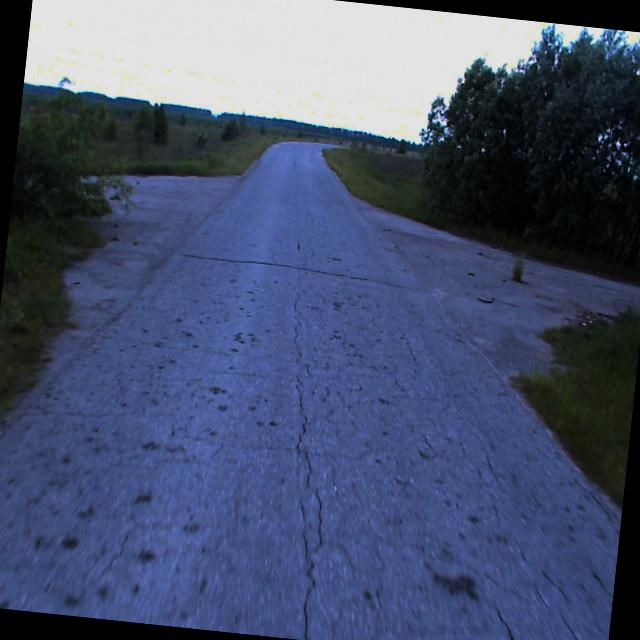road: (0, 140, 640, 640)
